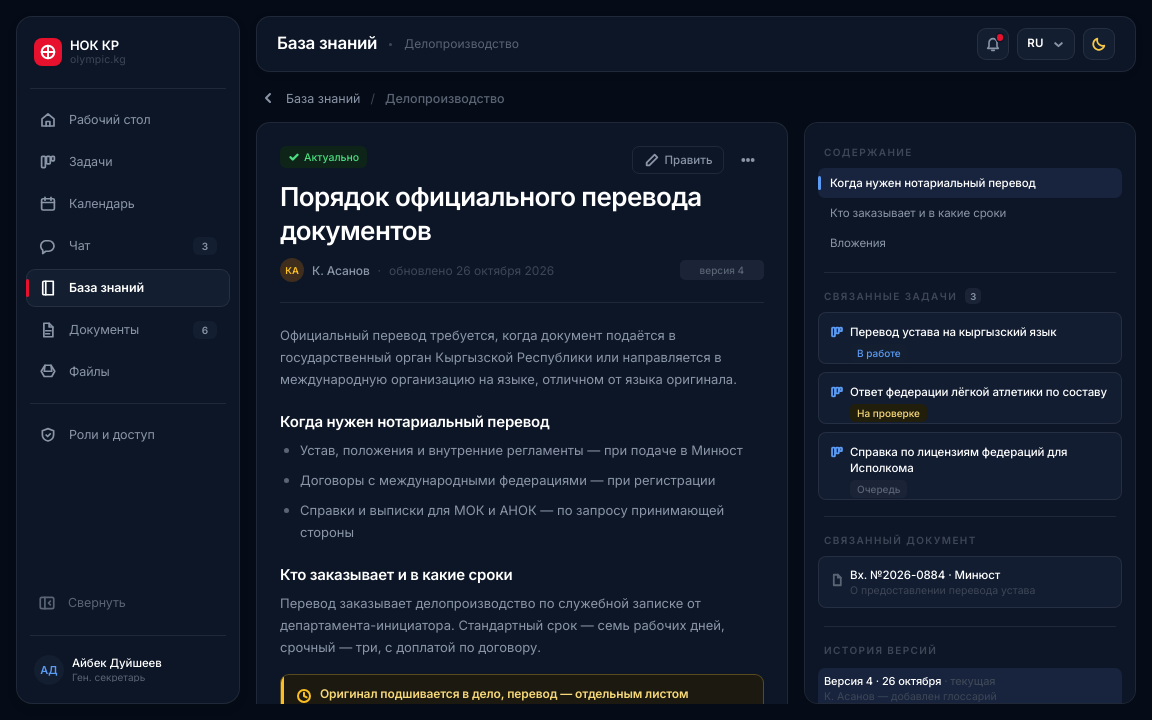
Scenario: база знаний (экраны) › связанный документ открывается карточкой
Click the button "Вх. №2026-0884 · Минюст О предоставлении перевода устава": (970, 582) [818, 556, 1122, 608]
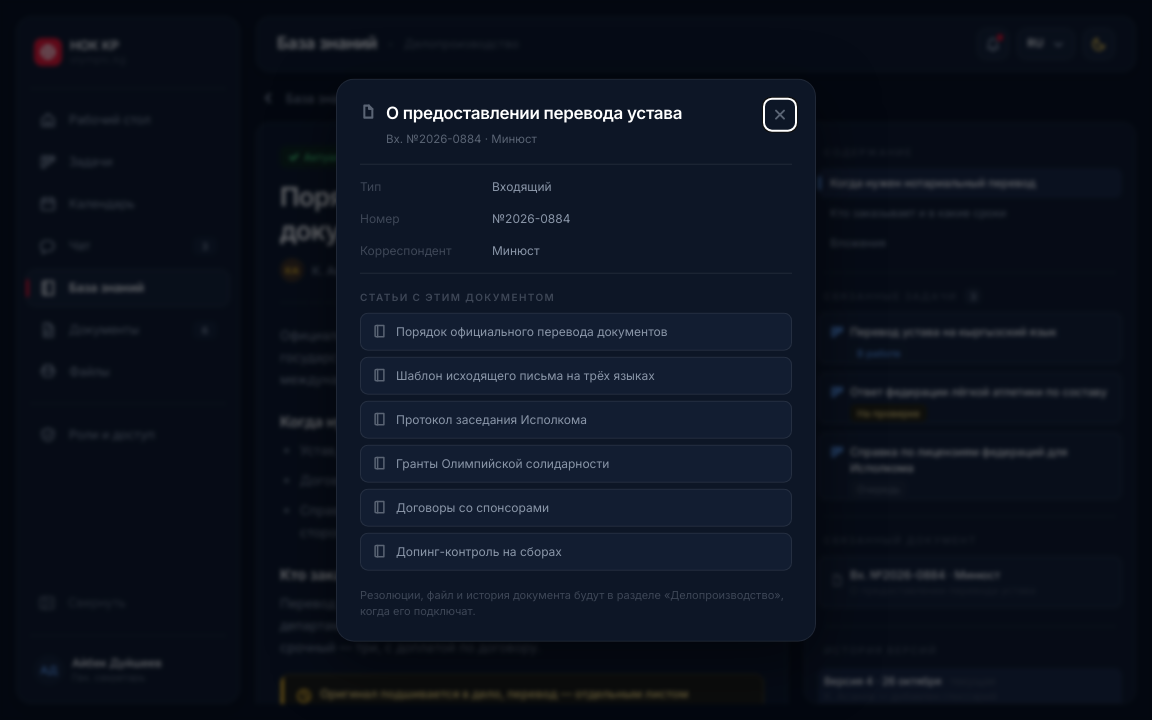
Result: the text "Входящий" is shown at [492, 177, 552, 195]
Result: the text "Корреспондент" is shown at [360, 242, 452, 257]
